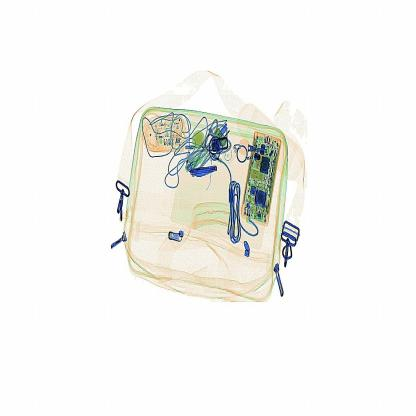knife: (188, 156, 224, 190)
